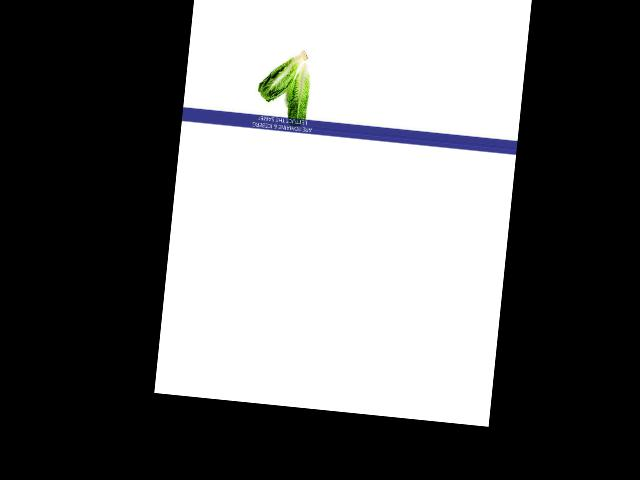lettuce: (259, 39, 309, 108)
